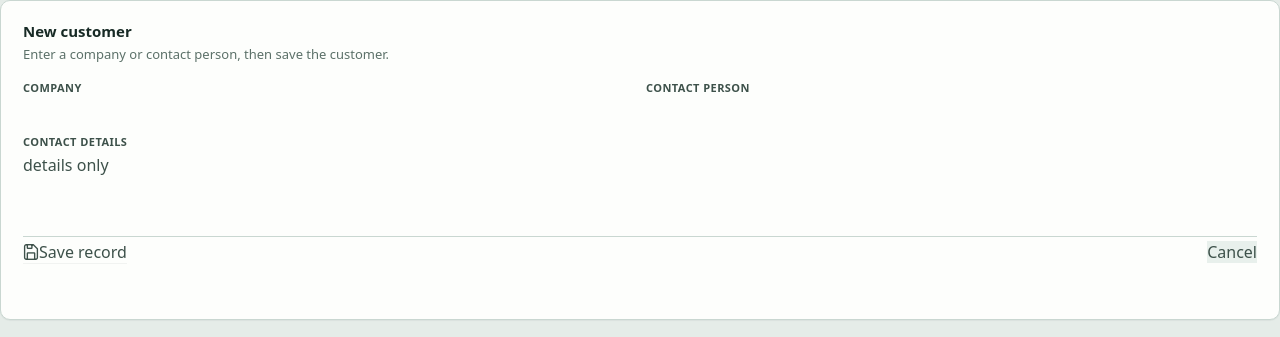
Scenario: CustomerLibraryEditor › shows inline accessible validation after an invalid save attempt
What coordinates should you click on to do the following:
click the button "Save record"
I would click on:
 (75, 252)
Its box is left=23, top=241, right=127, bottom=263.
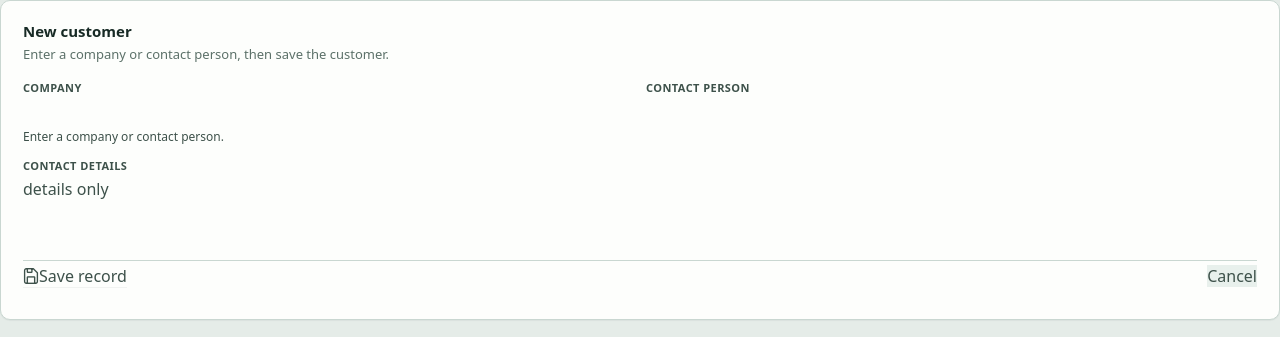
Now the text with id "customer-identity-error" reads "Enter a company or contact person.", box left=23, top=128, right=224, bottom=145
